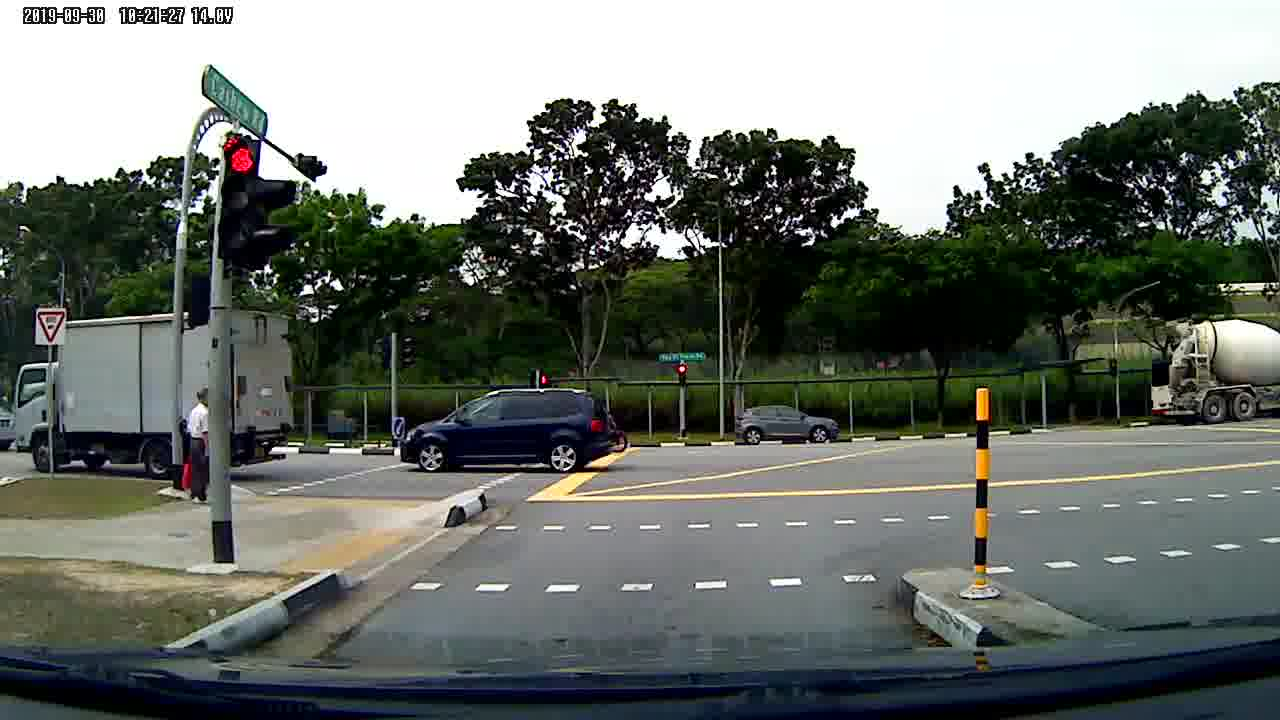car: (398, 388, 616, 477), (735, 401, 843, 452)
